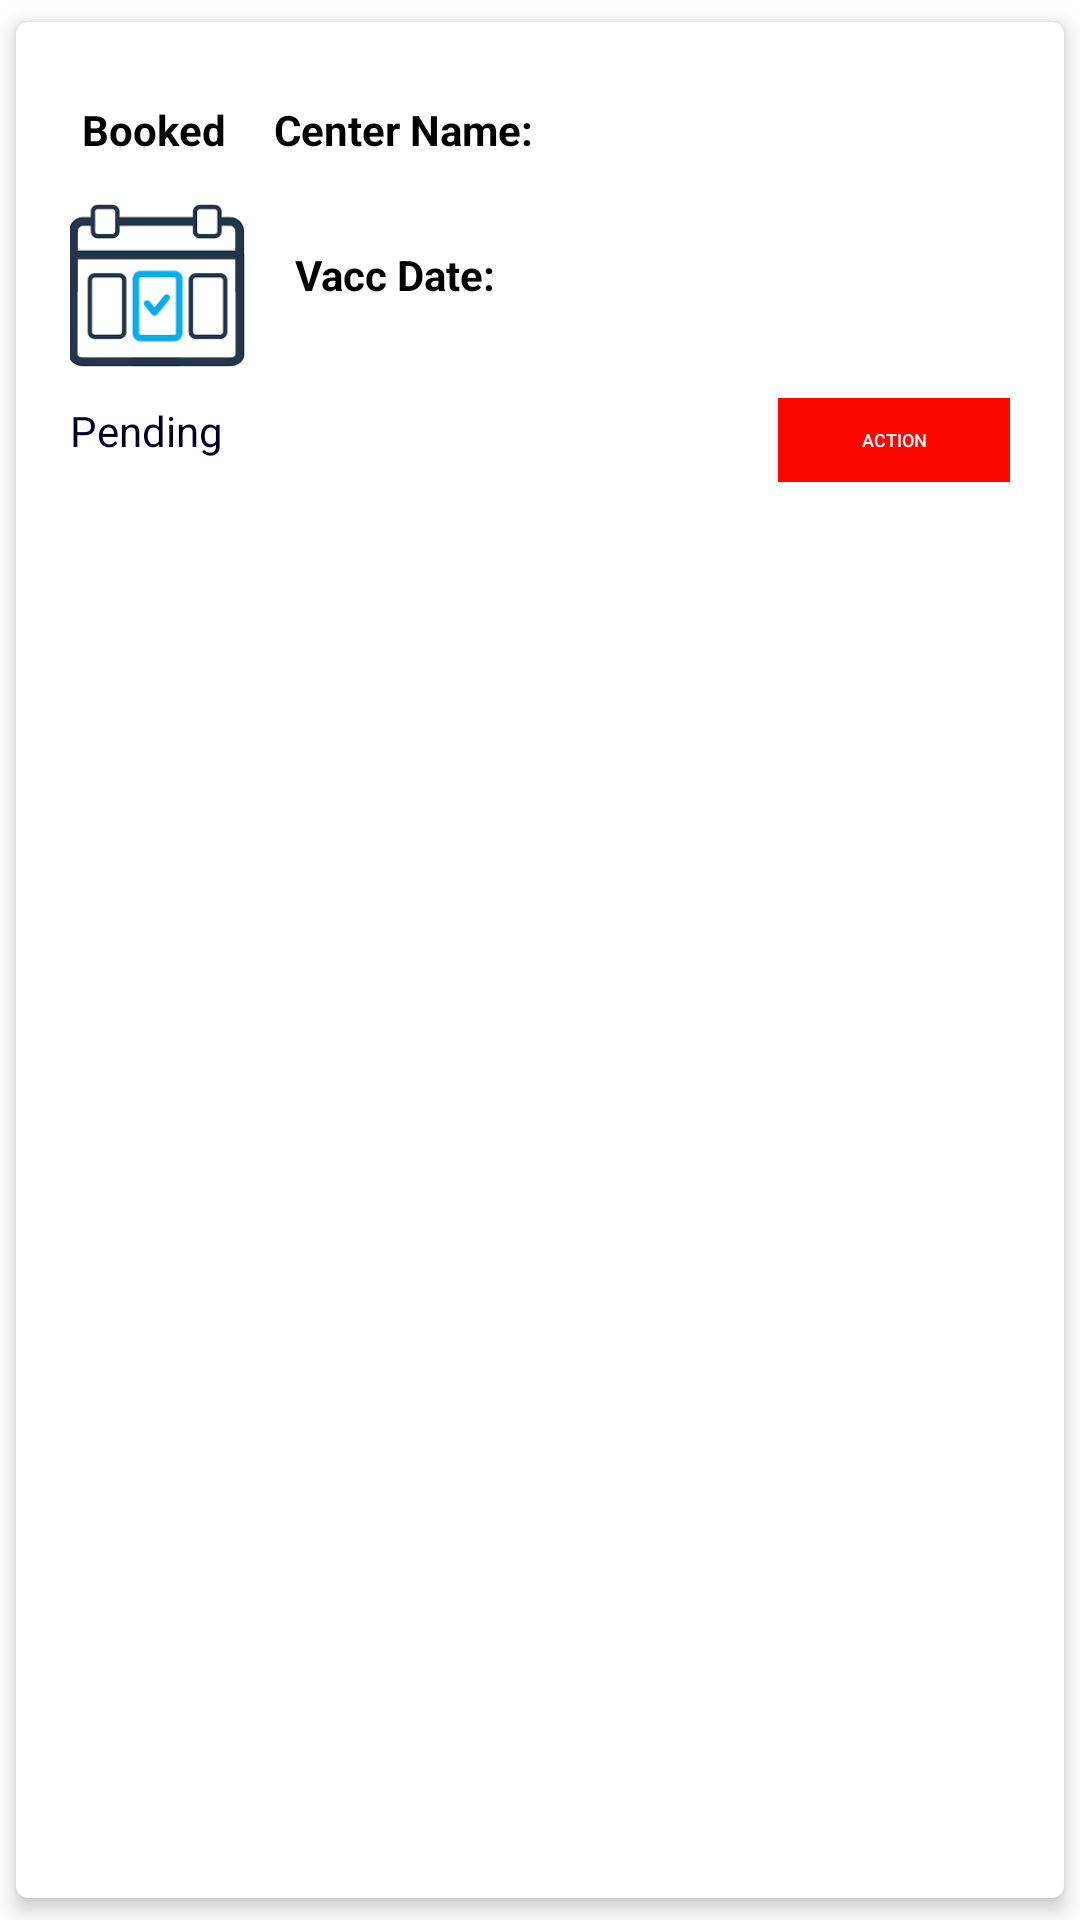

Named icons in this screenshot (1080x1920) and their bounding boxes, (x1, y1, x2, y2):
bookings: (70, 204, 245, 367)
